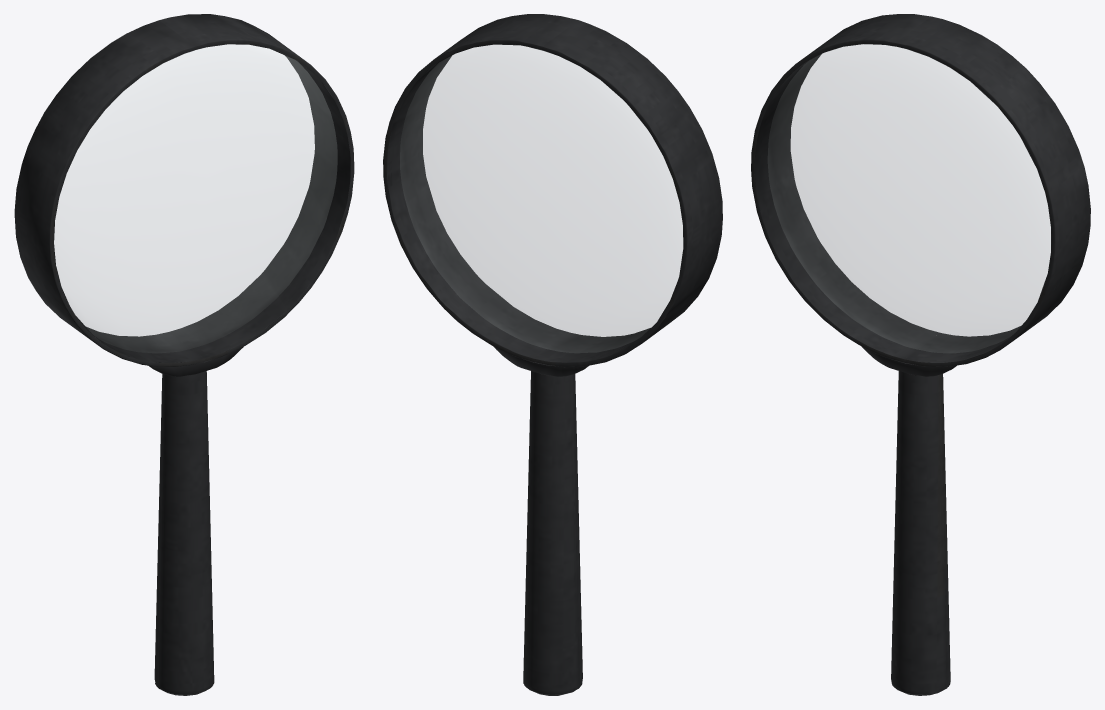
File: ph_magnifying_glass_01.glb
The picture shows the model from 3 angles, left to right: view 1: azimuth 30°, elevation 25°; view 2: azimuth 150°, elevation 25°; view 3: azimuth 330°, elevation 25°; orthographic projection.
Visible parts, largest first — view 1: magnifying_glass_01; view 2: magnifying_glass_01; view 3: magnifying_glass_01.
Boxes of the visible parts, <box> form: magnifying_glass_01: <box>14,14,354,695</box>; magnifying_glass_01: <box>383,14,722,695</box>; magnifying_glass_01: <box>751,14,1090,695</box>.
Size of the model in its own units: 0.1322 by 0.2715 by 0.027.
Materials: 2 (1 with a texture image).
